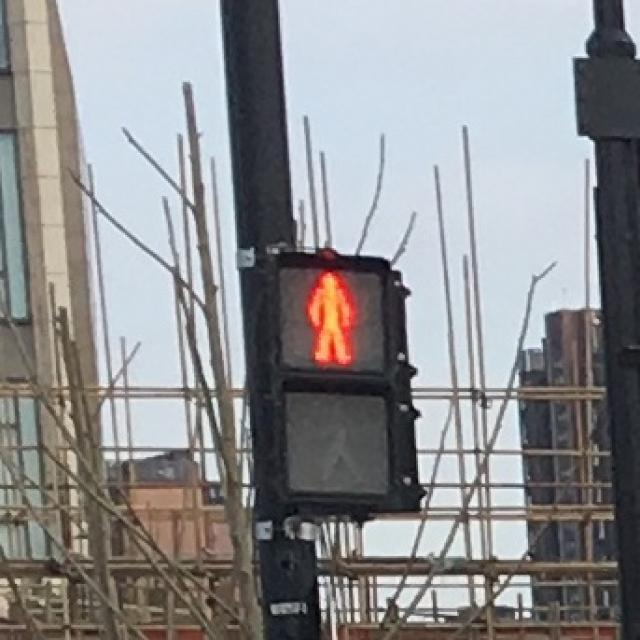red-light: (277, 259, 389, 371)
